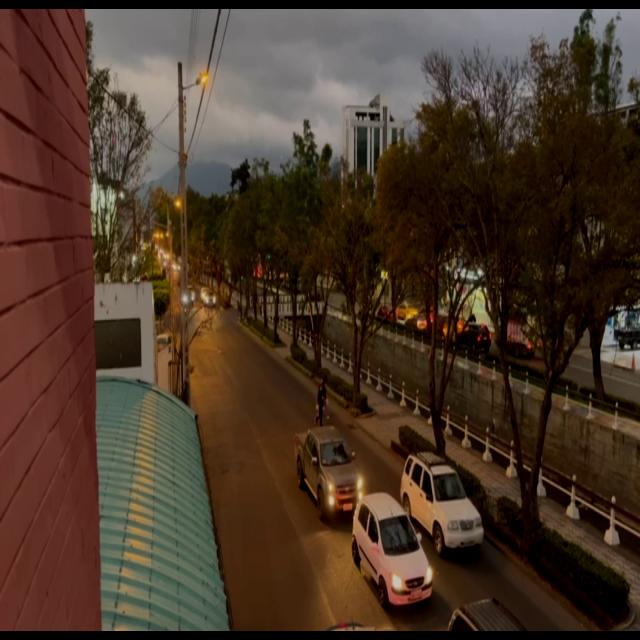CMT: (299, 433, 362, 518)
SUV: (358, 494, 432, 603), (409, 454, 483, 550)
